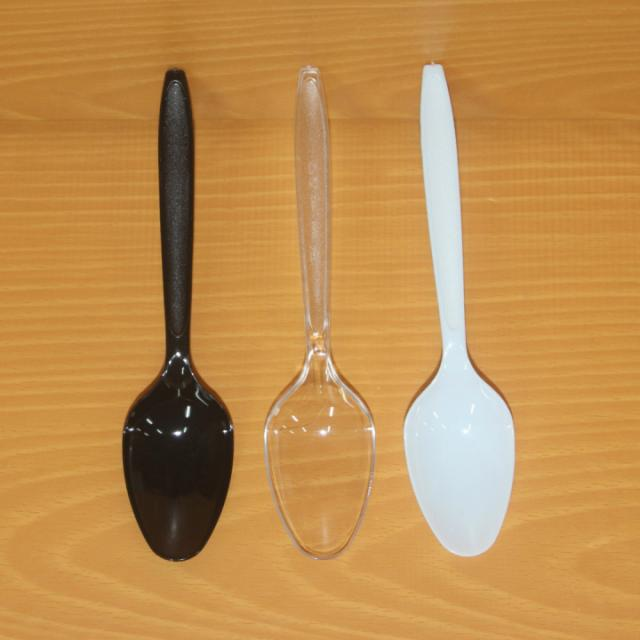Sendok: (249, 50, 393, 578), (379, 53, 528, 560), (117, 51, 247, 578)
